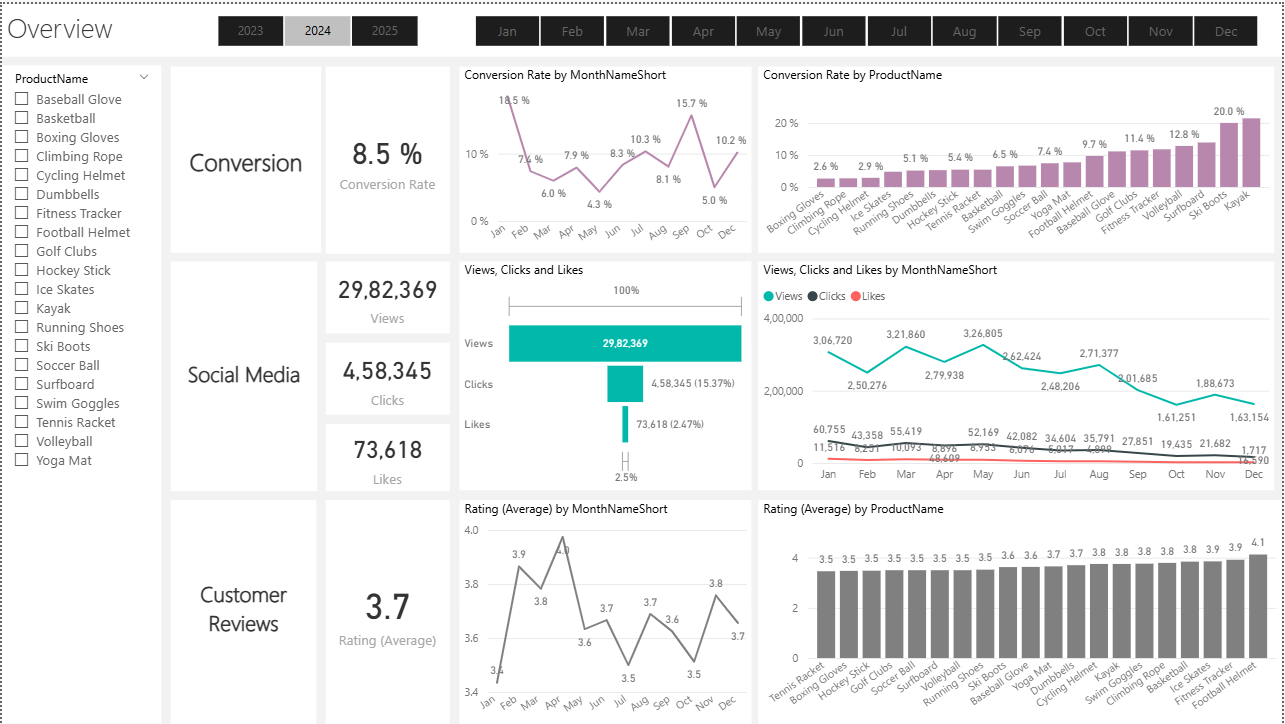

The dashboard page shown, as its layout file describes it:
{"tool":"powerbi","page":{"name":"Overview","canvas":[1280,720],"ordinal":0},"visuals":[{"type":"textbox","box":[0,0,1280,52.6],"z":0},{"type":"slicer","fields":{"Values":["dim_products.ProductName"]},"box":[0,61.6,159.5,658.5],"z":1000},{"type":"card","fields":{"Values":["_Calculations.Conversion Rate"]},"box":[324.1,61.9,123.9,186.8],"z":2000},{"type":"card","fields":{"Values":["_Calculations.Rating (Average)"]},"box":[324.1,496.5,123.9,224],"z":3000},{"type":"lineChart","fields":{"Y":["_Calculations.Conversion Rate"],"Category":["Calendar.MonthNameShort"]},"box":[457.1,61.9,292.3,186.7],"z":4000},{"type":"columnChart","fields":{"Category":["dim_products.ProductName"],"Y":["_Calculations.Conversion Rate"]},"box":[756.7,61.9,516.3,186.7],"z":5000},{"type":"slicer","fields":{"Values":["Calendar.Year"]},"box":[189.4,4.6,249.5,43.7],"z":6000},{"type":"slicer","fields":{"Values":["Calendar.MonthNameShort"]},"box":[448,4.6,832.3,43.7],"z":7000},{"type":"lineChart","fields":{"Y":["_Calculations.Views","_Calculations.Clicks","_Calculations.Likes"],"Category":["Calendar.MonthNameShort"]},"box":[756.6,258.1,516.1,229.2],"z":8000},{"type":"lineChart","fields":{"Category":["Calendar.MonthNameShort"],"Y":["_Calculations.Rating (Average)"]},"box":[457.1,496.3,292.3,224],"z":9000},{"type":"columnChart","fields":{"Category":["dim_products.ProductName"],"Y":["_Calculations.Rating (Average)"]},"box":[756.6,496.5,523.4,224],"z":10000},{"type":"funnel","fields":{"Y":["_Calculations.Views","_Calculations.Clicks","_Calculations.Likes"]},"box":[457.3,258.1,292.1,229.2],"z":11000},{"type":"card","fields":{"Values":["_Calculations.Views"]},"box":[324.2,257.7,123.8,71.9],"z":12000},{"type":"textbox","box":[168.5,61.9,150.3,186.7],"z":13000},{"type":"textbox","box":[168.5,257.7,146.6,229.5],"z":14000},{"type":"textbox","box":[168.5,496.3,145.7,224],"z":15000},{"type":"card","fields":{"Values":["_Calculations.Clicks"]},"box":[324.2,338.8,123.8,71.9],"z":16000},{"type":"card","fields":{"Values":["_Calculations.Likes"]},"box":[324.2,419.8,123.8,67.4],"z":17000}]}

Visuals, with their boxes in screenshot pixels (x1, y1, x2, y2), scaled from the page's 1280x720 canvas onto the 1285x724 screenshot:
textbox: box(0, 0, 1284, 53)
slicer - dim_products.ProductName: box(0, 62, 160, 723)
card - _Calculations.Conversion Rate: box(325, 62, 450, 250)
card - _Calculations.Rating (Average): box(325, 499, 450, 723)
lineChart - _Calculations.Conversion Rate x Calendar.MonthNameShort: box(459, 62, 752, 250)
columnChart - dim_products.ProductName x _Calculations.Conversion Rate: box(760, 62, 1278, 250)
slicer - Calendar.Year: box(190, 5, 441, 49)
slicer - Calendar.MonthNameShort: box(450, 5, 1284, 49)
lineChart - _Calculations.Views x _Calculations.Clicks: box(760, 260, 1278, 490)
lineChart - Calendar.MonthNameShort x _Calculations.Rating (Average): box(459, 499, 752, 723)
columnChart - dim_products.ProductName x _Calculations.Rating (Average): box(760, 499, 1284, 723)
funnel - _Calculations.Views x _Calculations.Clicks: box(459, 260, 752, 490)
card - _Calculations.Views: box(325, 259, 450, 331)
textbox: box(169, 62, 320, 250)
textbox: box(169, 259, 316, 490)
textbox: box(169, 499, 315, 723)
card - _Calculations.Clicks: box(325, 341, 450, 413)
card - _Calculations.Likes: box(325, 422, 450, 490)
